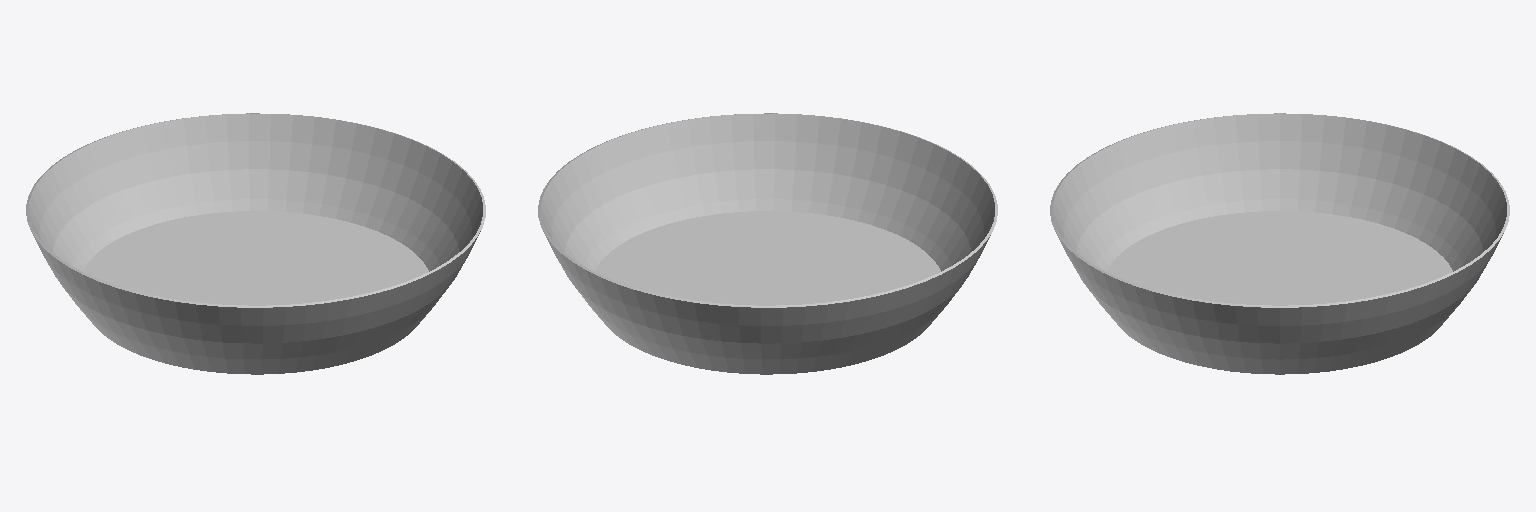
File: bowl.obj
3 views of the same model, side by side, from view 1: azimuth 30°, elevation 25°; view 2: azimuth 150°, elevation 25°; view 3: azimuth 270°, elevation 25° (orthographic).
Visible parts, largest first — view 1: Bowl; view 2: Bowl; view 3: Bowl.
Part boxes in pixels (left/top/right/bottom): Bowl: left=26, top=113, right=485, bottom=374; Bowl: left=538, top=113, right=997, bottom=374; Bowl: left=1050, top=113, right=1509, bottom=374.
Bounding box in the file's own units: 2.01 × 0.4486 × 2.01.